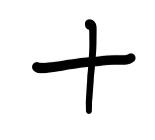plus: (32, 19, 135, 114)
